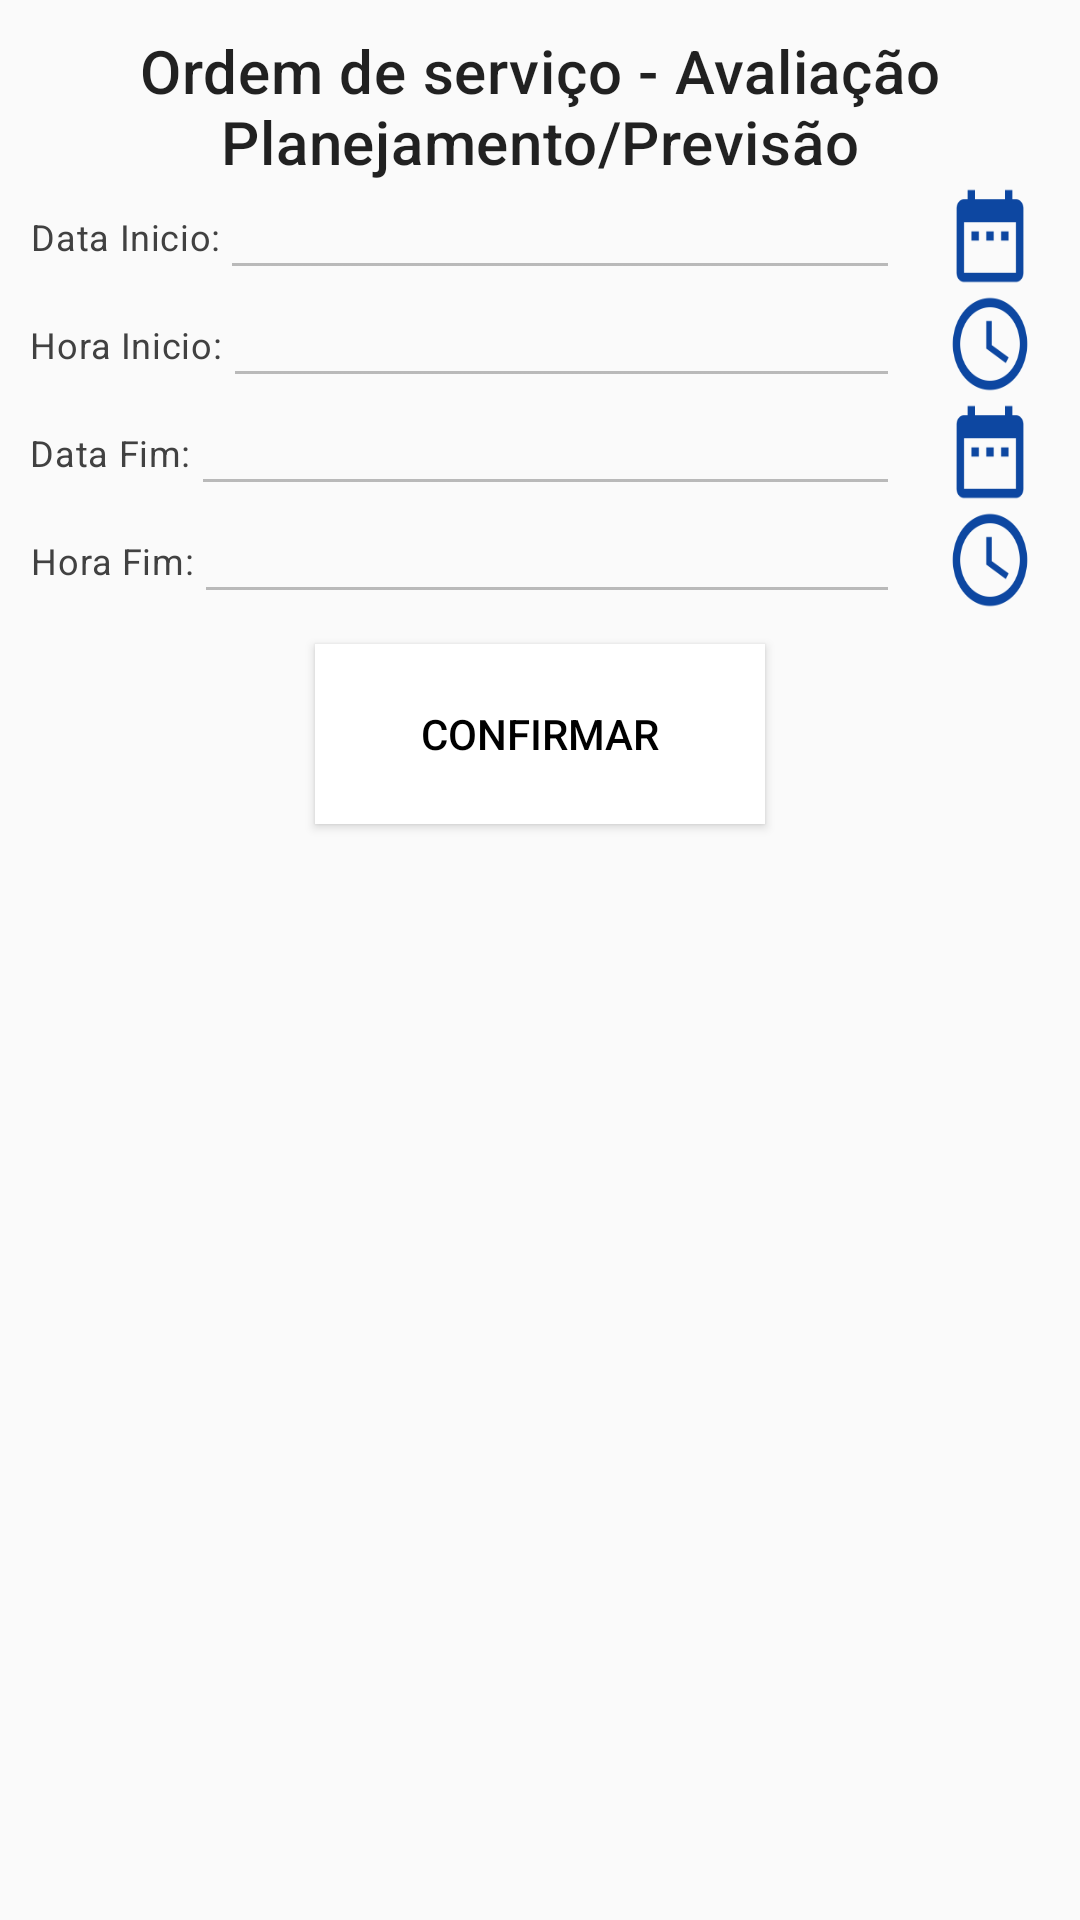

Icon click points for this 1080px x 1920px phone screenshot, format (x,y):
date: (990,236), (990,452)
time: (990,344), (990,560)
